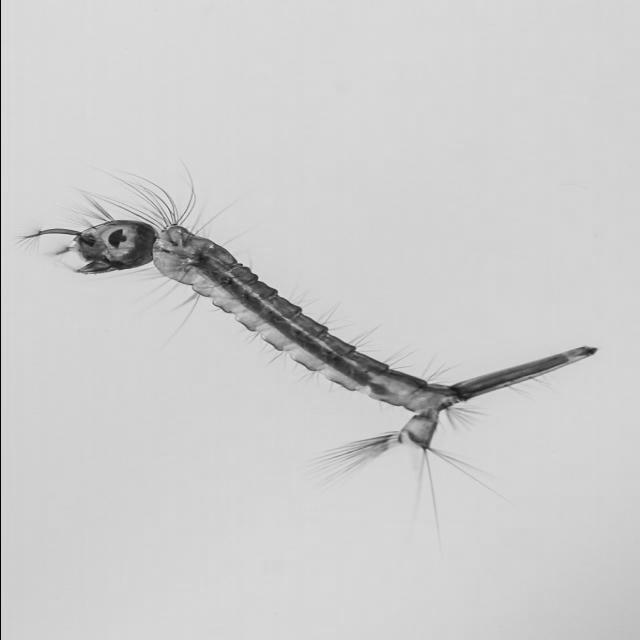larvas: (57, 218, 593, 455)
